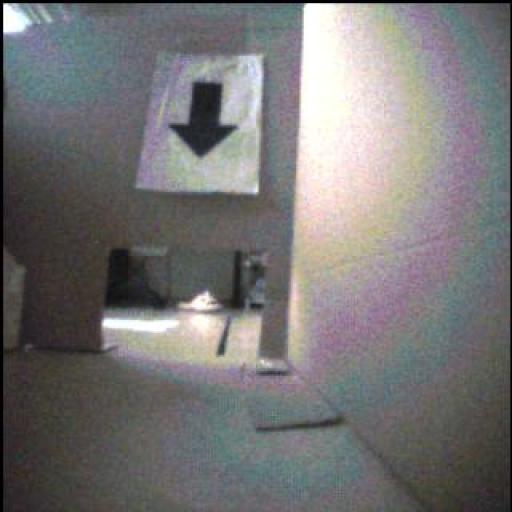arrow: (171, 83, 238, 158)
